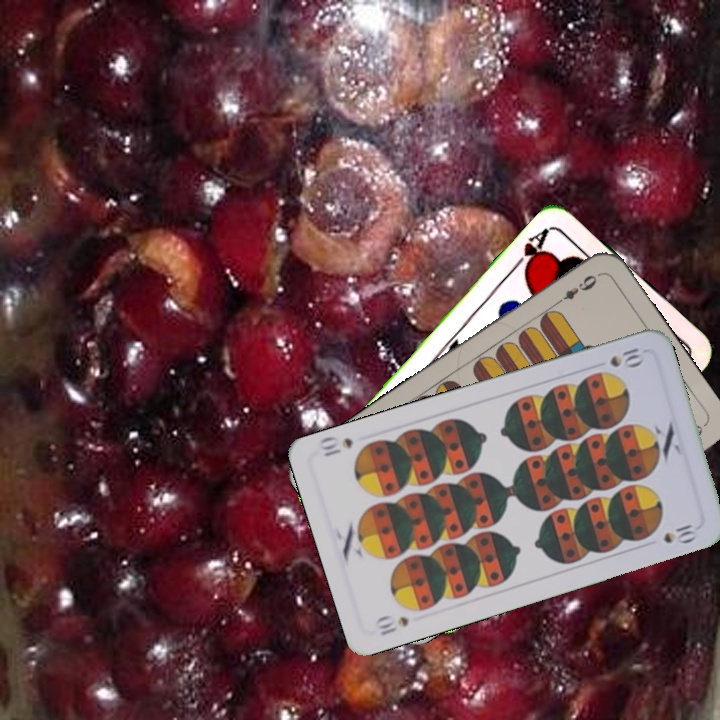E9: (550, 270, 600, 309)
HA: (509, 224, 554, 277)
S10: (606, 342, 647, 370), (371, 611, 412, 638)
